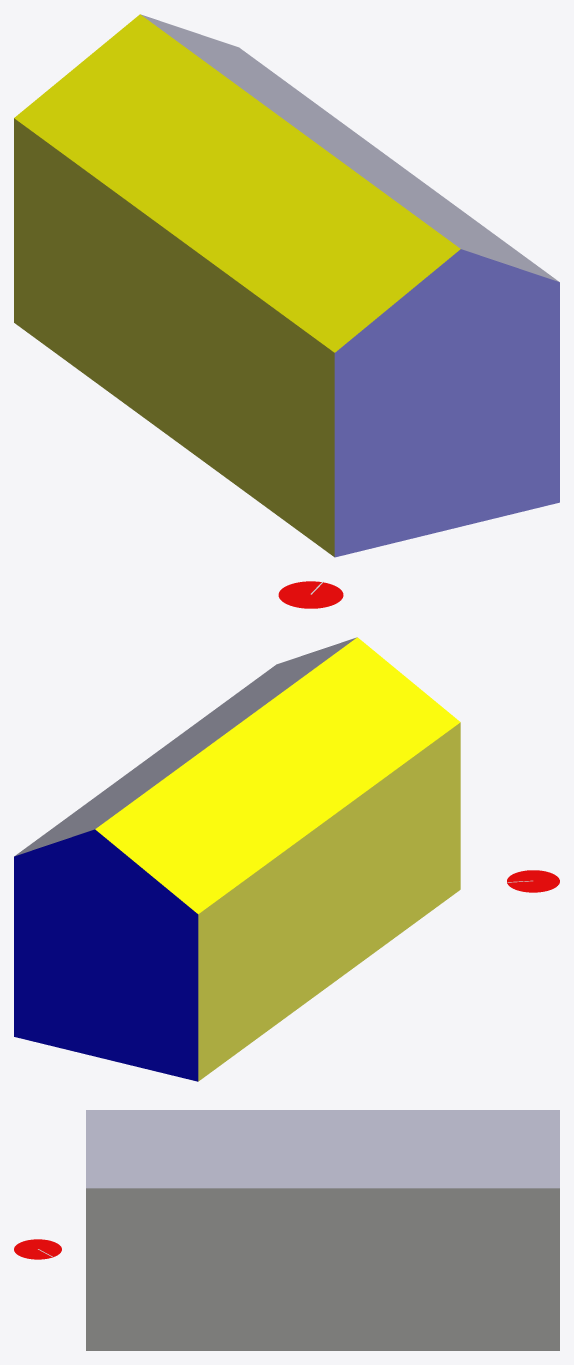
The model's file is result.glb.
The picture shows the model from 3 angles, top to bottom: view 1: azimuth 30°, elevation 25°; view 2: azimuth 150°, elevation 25°; view 3: azimuth 270°, elevation 25°; orthographic projection. The views are drawn at different scales.
Parts seen in each view (by area): view 1: 7a744bc7-7d66-4385-a0ec-28e4b5b01bfe__undefined, 9c76ef18-6cec-4304-847f-f885f5123a67__undefined, 4996c4f7-c1cd-4f41-9d93-68bc13f7530b__undefined, 37cbb700-a6e4-421d-a660-1a1e7fea1c18__undefined, 6f83ba69-e8c2-4916-a841-3c3cfcc824e1__Circle; view 2: 7a744bc7-7d66-4385-a0ec-28e4b5b01bfe__undefined, 9c76ef18-6cec-4304-847f-f885f5123a67__undefined, 7642f59d-d591-429c-8695-cbbfa7d0d9fb__undefined, 37cbb700-a6e4-421d-a660-1a1e7fea1c18__undefined, 6f83ba69-e8c2-4916-a841-3c3cfcc824e1__Circle; view 3: 17e6f29d-f1df-4242-a8ed-201ffaf3c5b0__undefined, 37cbb700-a6e4-421d-a660-1a1e7fea1c18__undefined, 6f83ba69-e8c2-4916-a841-3c3cfcc824e1__Circle.
Boxes of the visible parts, x1,y1,x2,y2 form: 7a744bc7-7d66-4385-a0ec-28e4b5b01bfe__undefined: [14, 118, 334, 556]; 9c76ef18-6cec-4304-847f-f885f5123a67__undefined: [14, 14, 460, 352]; 4996c4f7-c1cd-4f41-9d93-68bc13f7530b__undefined: [334, 249, 559, 557]; 37cbb700-a6e4-421d-a660-1a1e7fea1c18__undefined: [141, 14, 558, 281]; 6f83ba69-e8c2-4916-a841-3c3cfcc824e1__Circle: [278, 581, 343, 608]; 7a744bc7-7d66-4385-a0ec-28e4b5b01bfe__undefined: [198, 722, 460, 1081]; 9c76ef18-6cec-4304-847f-f885f5123a67__undefined: [95, 637, 460, 914]; 7642f59d-d591-429c-8695-cbbfa7d0d9fb__undefined: [14, 829, 198, 1081]; 37cbb700-a6e4-421d-a660-1a1e7fea1c18__undefined: [14, 637, 356, 856]; 6f83ba69-e8c2-4916-a841-3c3cfcc824e1__Circle: [507, 870, 559, 892]; 17e6f29d-f1df-4242-a8ed-201ffaf3c5b0__undefined: [86, 1188, 559, 1350]; 37cbb700-a6e4-421d-a660-1a1e7fea1c18__undefined: [86, 1110, 559, 1188]; 6f83ba69-e8c2-4916-a841-3c3cfcc824e1__Circle: [14, 1239, 61, 1259].
Bounding box in the file's own units: 550 × 471 × 1137.
